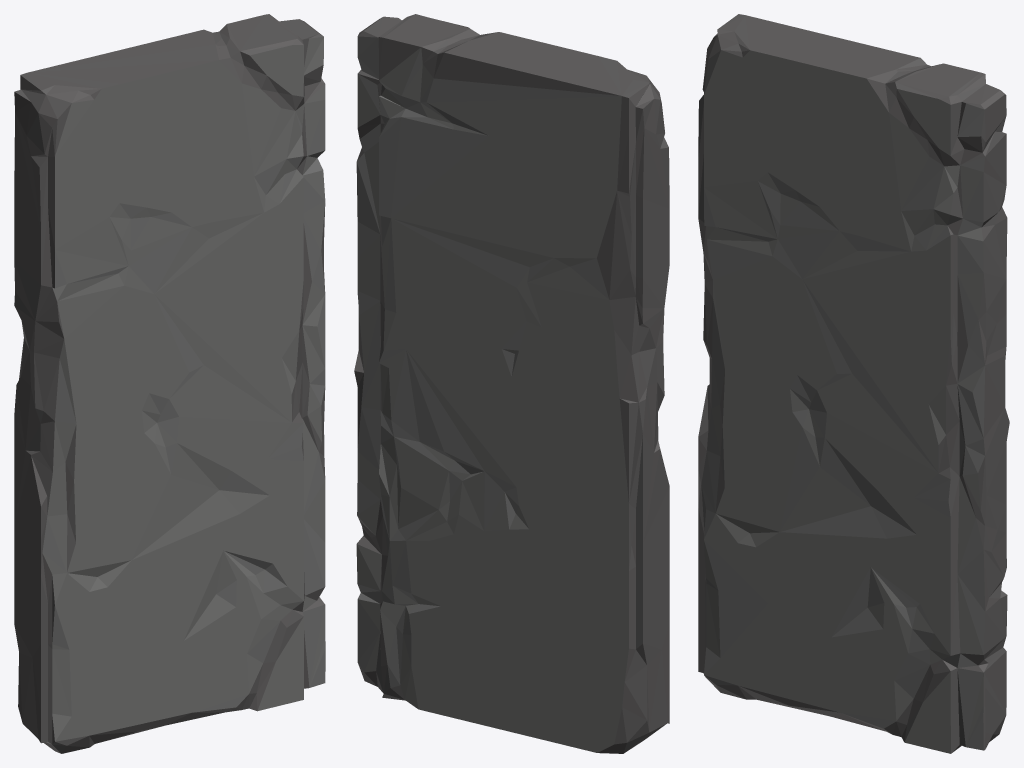
File: SM_Env_Door_Large_Stone_01.FBX
The picture shows the model from 3 angles, left to right: view 1: azimuth 30°, elevation 25°; view 2: azimuth 150°, elevation 25°; view 3: azimuth 330°, elevation 25°; orthographic projection.
Parts seen in each view (by area): view 1: SM_Env_Door_Large_Stone_01; view 2: SM_Env_Door_Large_Stone_01; view 3: SM_Env_Door_Large_Stone_01.
Boxes of the visible parts, x1,y1,x2,y2 form: SM_Env_Door_Large_Stone_01: [14, 14, 325, 753]; SM_Env_Door_Large_Stone_01: [354, 14, 669, 753]; SM_Env_Door_Large_Stone_01: [698, 14, 1009, 753].
Size of what is drawn, in the model's own units: 205 by 43.32 by 452.
